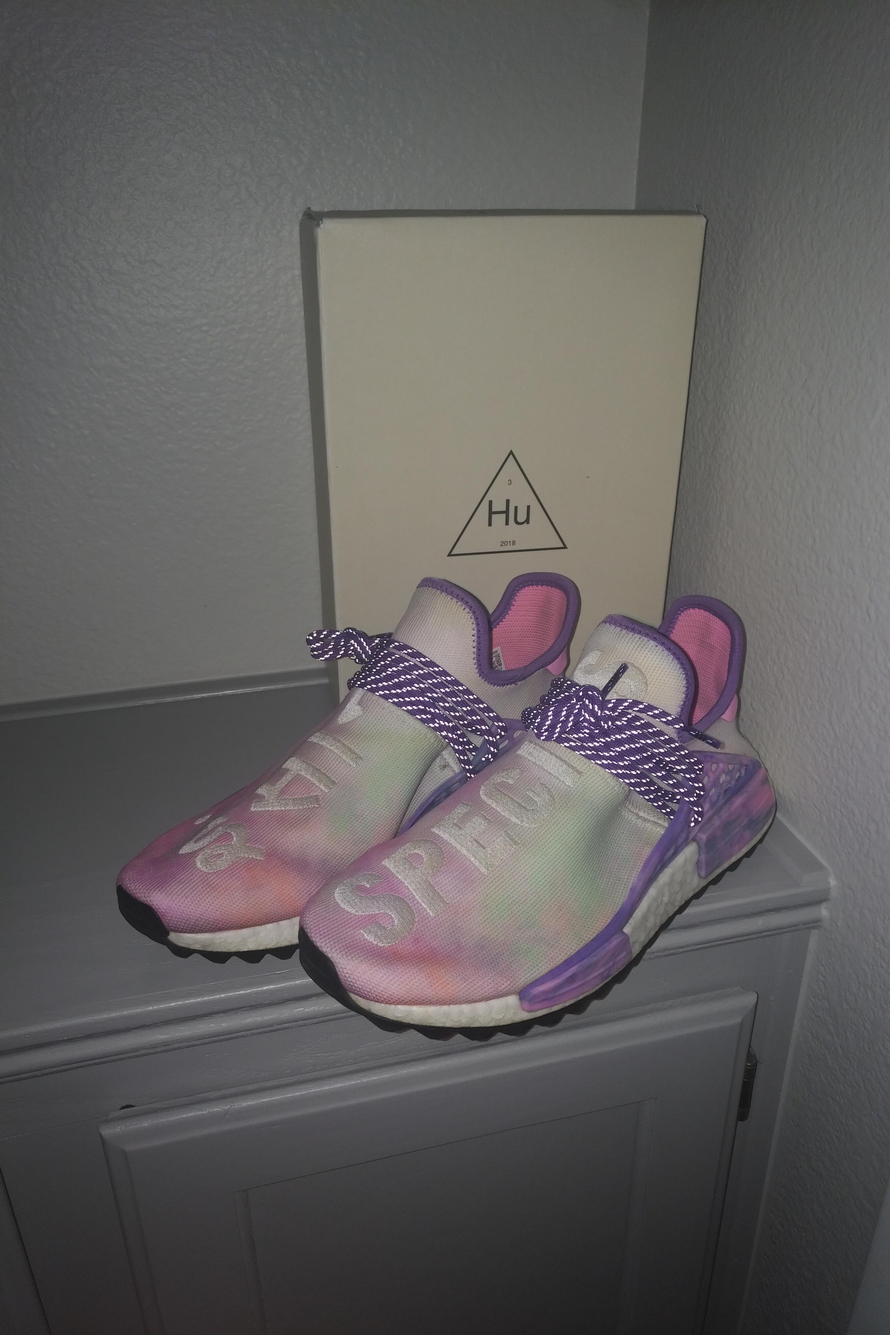sneaker: (292, 597, 783, 1045), (111, 571, 589, 976)
